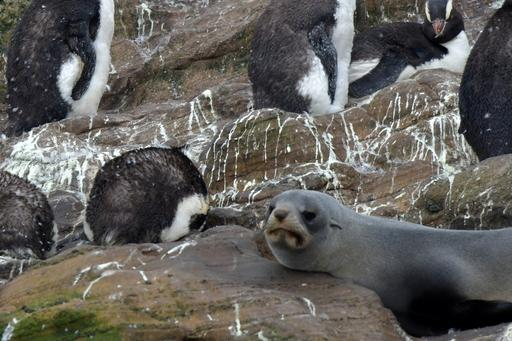Southern Rockhopper Penguin: (0, 0, 115, 173), (245, 0, 364, 120), (83, 147, 210, 246), (348, 0, 478, 83), (0, 167, 59, 279), (81, 0, 226, 28)
